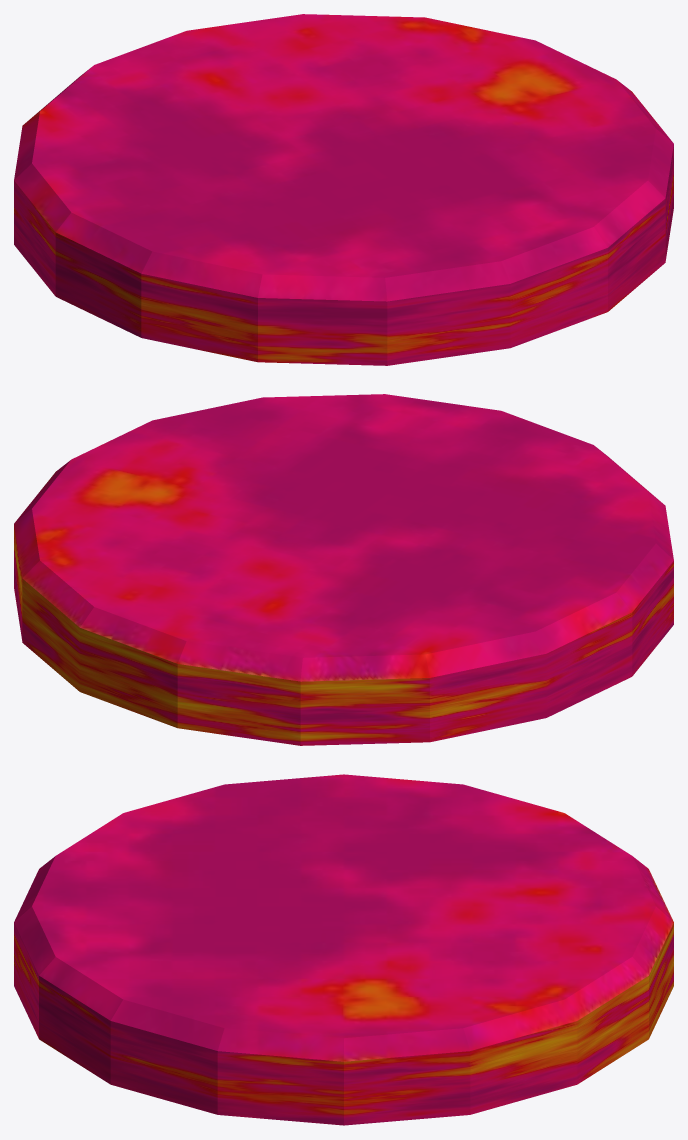
File: redButton1.fbx
3 renders of one model, top to bottom at view 1: azimuth 30°, elevation 25°; view 2: azimuth 150°, elevation 25°; view 3: azimuth 270°, elevation 25°, orthographic.
Visible parts, largest first — view 1: RedButton1; view 2: RedButton1; view 3: RedButton1.
Boxes of the visible parts, bbox=[...] form: RedButton1: bbox=[14, 14, 673, 365]; RedButton1: bbox=[14, 394, 673, 745]; RedButton1: bbox=[14, 774, 673, 1125].
Size of the model in its own units: 37.5 by 5 by 37.5.
Materials: 1 (1 with a texture image).
